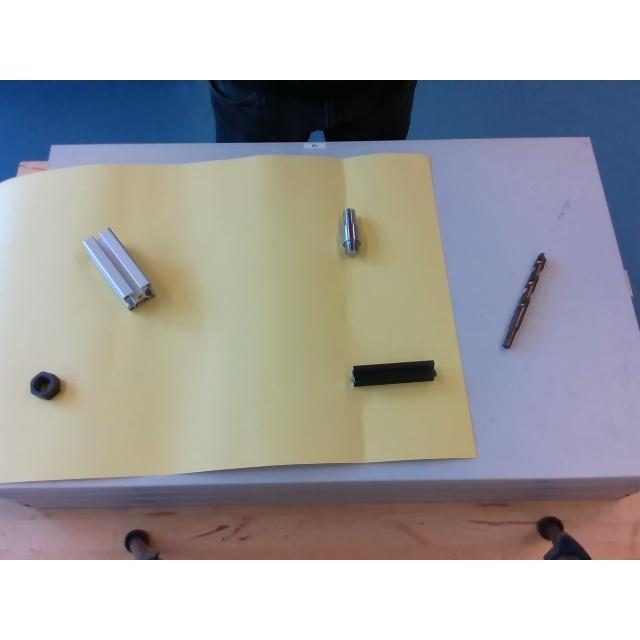Axis2: (340, 208, 360, 252)
Drill: (502, 252, 544, 346)
M20: (28, 370, 61, 400)
S40_40_B: (352, 360, 436, 386)
S40_40_G: (82, 228, 154, 308)
